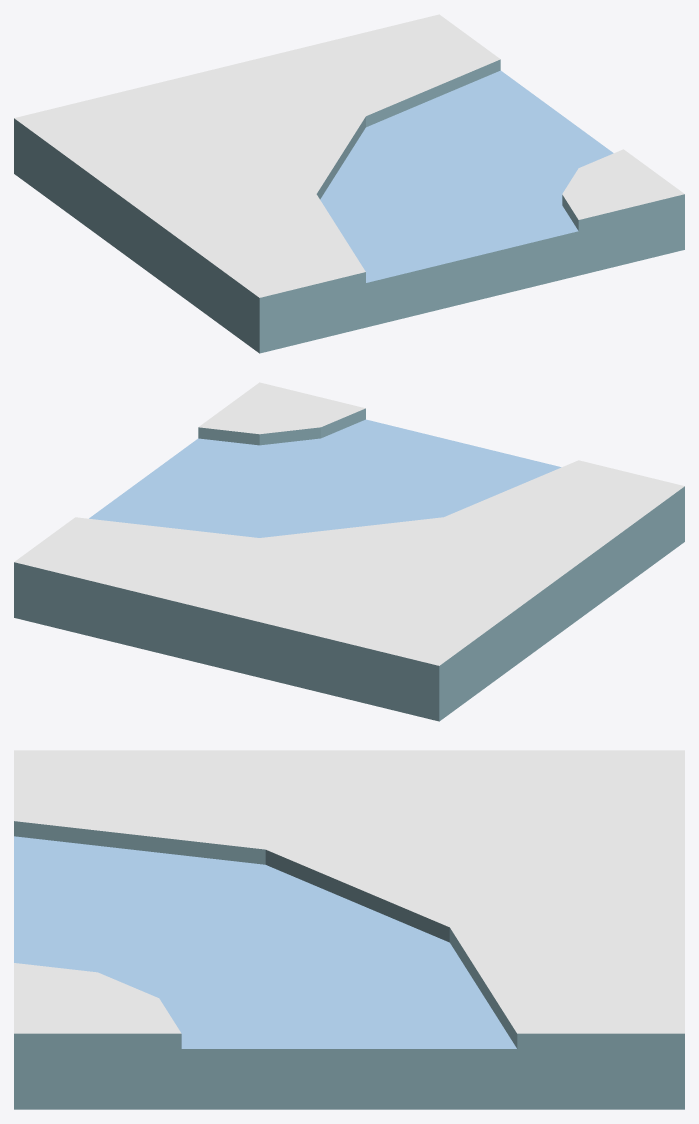
Rendered from Terrain_Tile_Ice_Snow_River_Bend_01.fbx.
3 renders of one model, top to bottom at view 1: azimuth 30°, elevation 25°; view 2: azimuth 150°, elevation 25°; view 3: azimuth 270°, elevation 25°, orthographic. The views are drawn at different scales.
Visible parts, largest first — view 1: Terrain_Tile_Ice_Snow_River_Bend_01; view 2: Terrain_Tile_Ice_Snow_River_Bend_01; view 3: Terrain_Tile_Ice_Snow_River_Bend_01.
Boxes of the visible parts, x1=… form: Terrain_Tile_Ice_Snow_River_Bend_01: x1=14, y1=14, x2=684, y2=353; Terrain_Tile_Ice_Snow_River_Bend_01: x1=14, y1=382, x2=684, y2=721; Terrain_Tile_Ice_Snow_River_Bend_01: x1=14, y1=750, x2=684, y2=1109.
Size of the model in its own units: 126 by 15.75 by 126.
